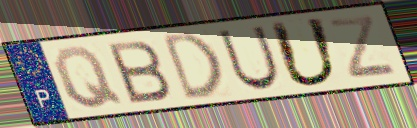B: (103, 38, 175, 106)
D: (159, 29, 227, 103)
Q: (50, 44, 127, 111)
U: (266, 15, 342, 89), (215, 24, 283, 93)
Z: (325, 13, 401, 81)
